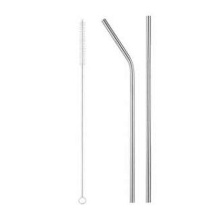drinking_straw: (98, 13, 137, 205), (142, 10, 156, 205)
